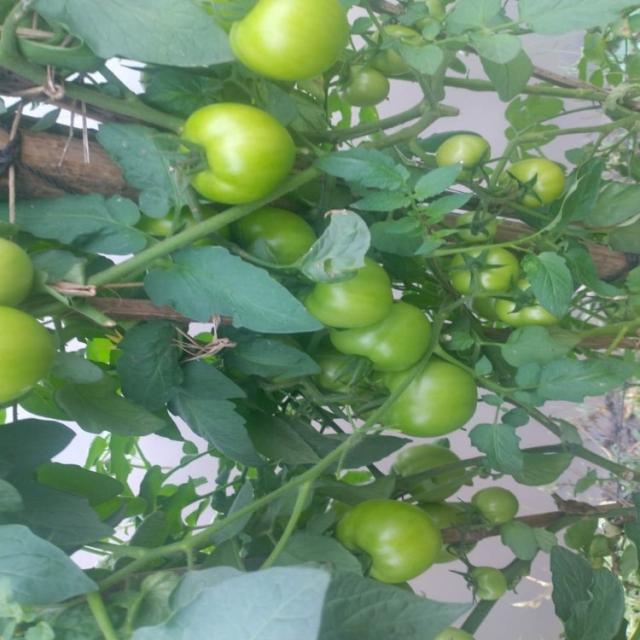tomato: (179, 103, 297, 204), (228, 1, 355, 79), (342, 498, 441, 588), (380, 351, 478, 434), (339, 302, 433, 372), (306, 256, 397, 326), (1, 292, 50, 413), (237, 206, 320, 265), (388, 444, 457, 501), (445, 244, 521, 294), (493, 271, 556, 328), (431, 131, 493, 187), (501, 155, 564, 209), (375, 17, 425, 71), (1, 234, 34, 307), (341, 63, 393, 109), (435, 499, 476, 557), (467, 562, 514, 606), (472, 486, 514, 528), (457, 213, 504, 241)
